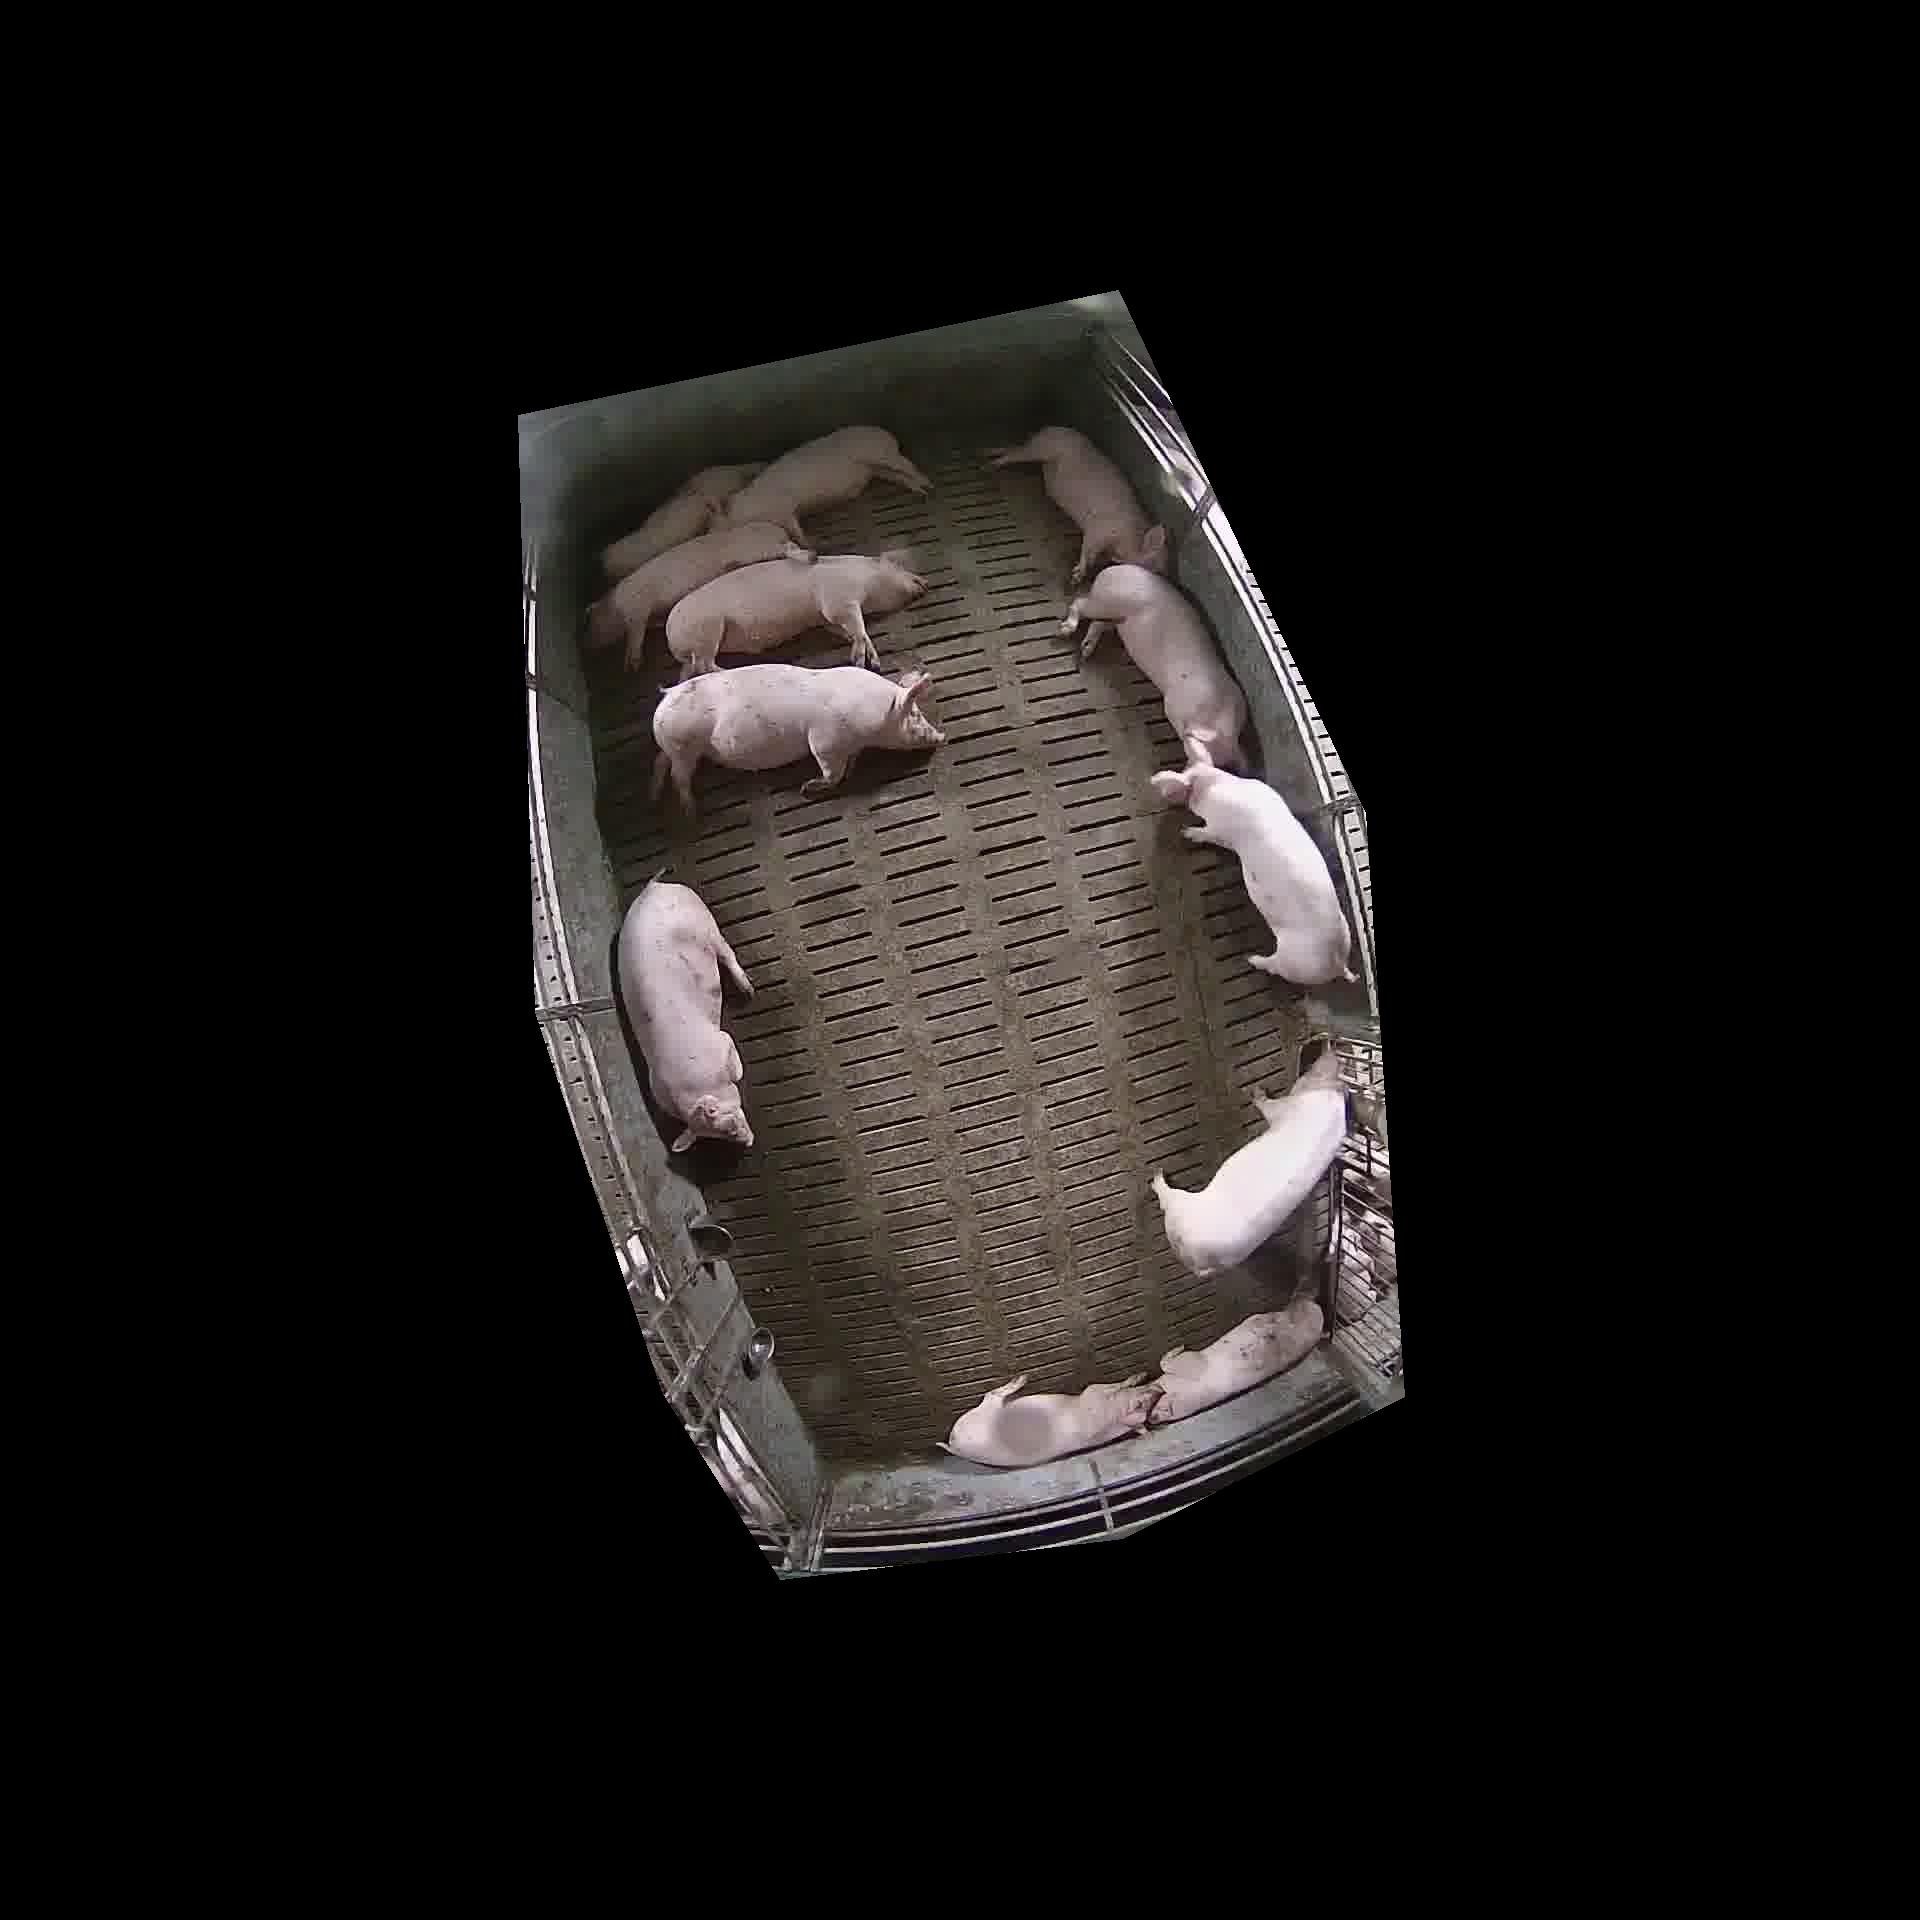pig: (1152, 721, 1354, 983), (1152, 1050, 1345, 1276), (652, 665, 944, 811), (617, 881, 753, 1150), (1060, 564, 1245, 751), (666, 550, 927, 677), (587, 522, 807, 668), (988, 425, 1167, 584), (716, 425, 930, 542), (1150, 1298, 1322, 1422), (948, 1377, 1159, 1466), (601, 462, 761, 578)
